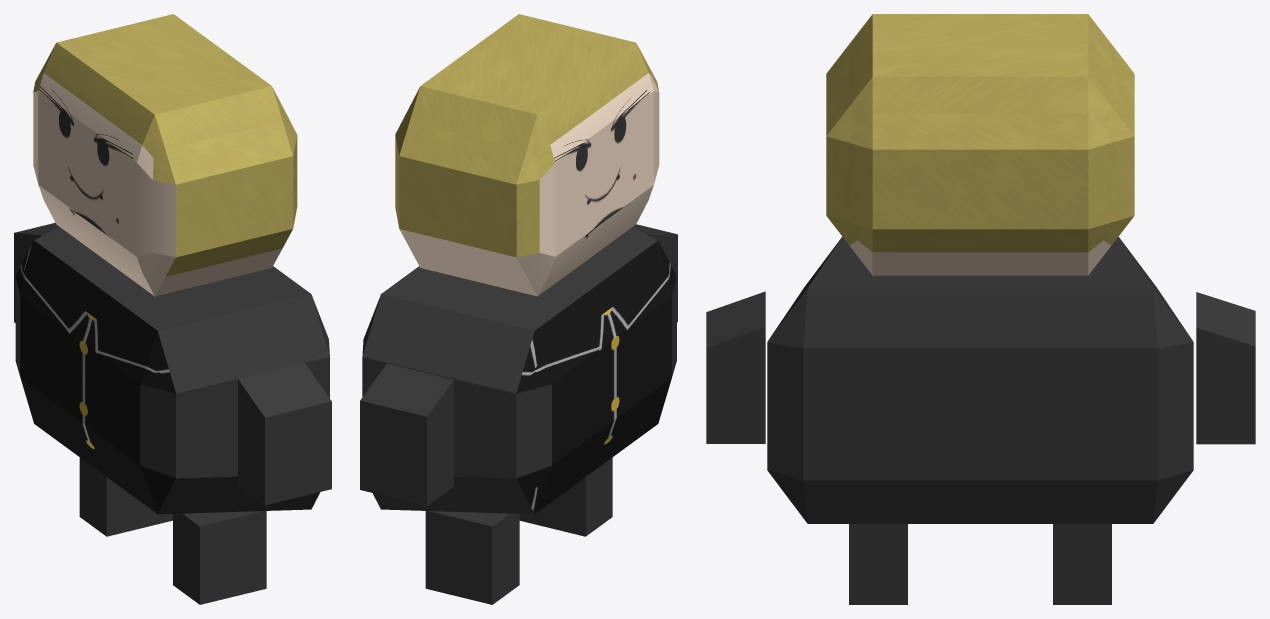
The model's file is bully.FBX.
3 renders of one model, left to right at view 1: azimuth 30°, elevation 25°; view 2: azimuth 150°, elevation 25°; view 3: azimuth 270°, elevation 25°, orthographic. The views are drawn at different scales.
Parts seen in each view (by area): view 1: Box014, Box015, Box016, Box019, Box018, Box017; view 2: Box014, Box015, Box017, Box018, Box019, Box016; view 3: Box015, Box014, Box017, Box016, Box018, Box019.
Part boxes in pixels (x1,y1,x2,y2): Box014: (33,14,297,296); Box015: (15,227,329,514); Box016: (238,362,331,505); Box019: (173,511,266,604); Box018: (79,457,172,536); Box017: (14,222,59,322); Box014: (395,14,659,296); Box015: (362,227,676,514); Box017: (360,363,453,505); Box018: (425,511,519,604); Box019: (519,457,612,536); Box016: (633,224,677,322); Box015: (767,236,1193,523); Box014: (826,14,1134,275); Box017: (1196,292,1255,444); Box016: (706,291,765,443); Box018: (1053,524,1111,604); Box019: (849,524,907,604).
Size of the model in its own units: 14.51 by 40.62 by 37.66.
